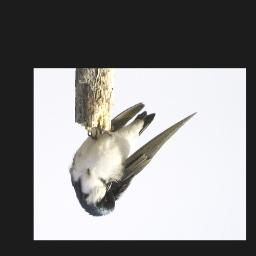Swallow: (68, 101, 197, 218)
